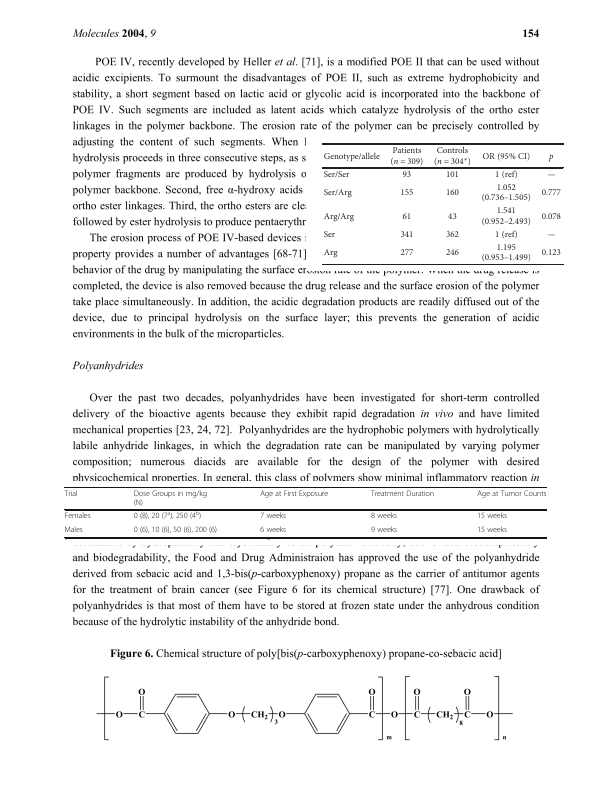borderless: (322, 142, 564, 265), (63, 486, 546, 537)
cell: (133, 490, 208, 508), (480, 183, 531, 204), (480, 206, 531, 227), (480, 243, 531, 264), (133, 526, 218, 536), (133, 510, 202, 522), (433, 146, 472, 167), (389, 146, 424, 167), (476, 490, 547, 499), (322, 151, 380, 162), (259, 490, 329, 499), (370, 490, 435, 499), (481, 151, 531, 162), (322, 211, 355, 222), (476, 512, 508, 522), (476, 526, 508, 536), (322, 188, 352, 198), (322, 170, 350, 180), (259, 512, 287, 522), (370, 512, 398, 522), (259, 526, 287, 536), (370, 526, 398, 536), (64, 512, 91, 522), (494, 170, 518, 180), (494, 230, 518, 240), (540, 211, 561, 222), (540, 248, 561, 259), (540, 188, 561, 198), (63, 526, 84, 536), (322, 248, 338, 259), (399, 248, 414, 259), (445, 248, 460, 259), (445, 170, 460, 180), (399, 188, 414, 198), (445, 188, 460, 198), (399, 230, 414, 240), (445, 230, 460, 240), (322, 230, 336, 240), (64, 490, 78, 499), (401, 211, 412, 222), (401, 170, 412, 180), (447, 211, 457, 222), (548, 153, 554, 162), (546, 174, 556, 178), (546, 234, 556, 238)
